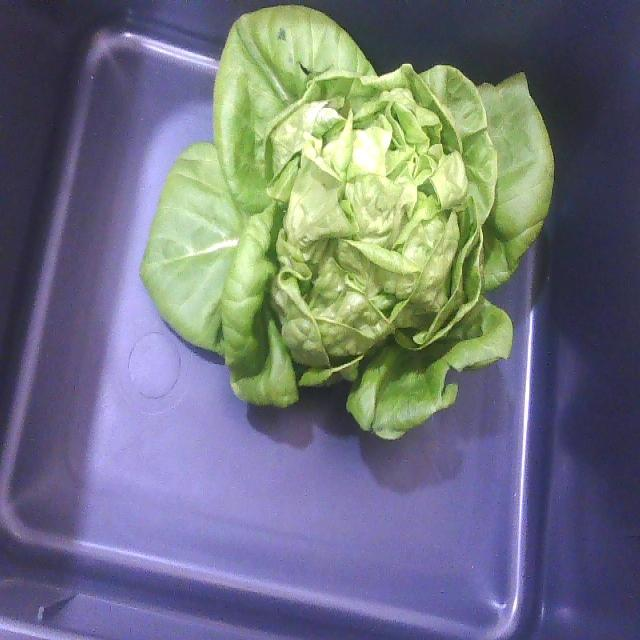lettuce: (141, 7, 552, 439)
